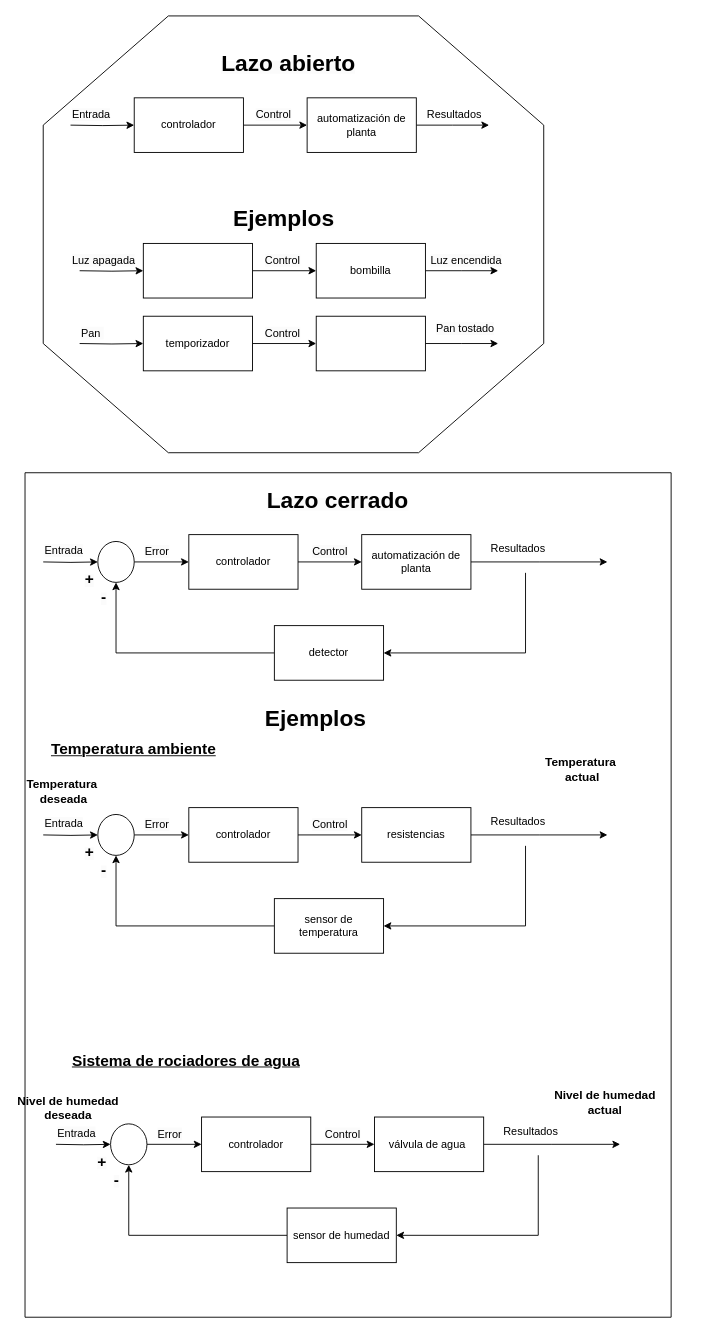
Some shapes in this 723 by 1333 pixel diagram are drawn without their labels. Each missing label, with the centre of its shape:
interruptor: (x=197, y=270)
tostadora: (x=370, y=343)
